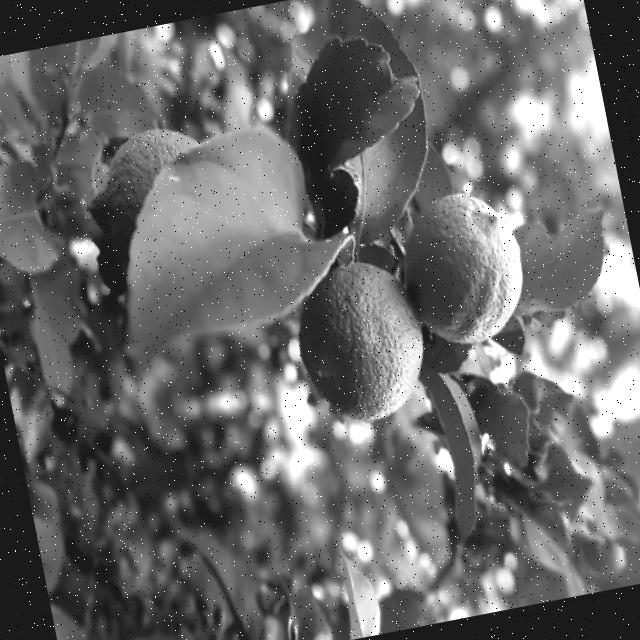Unripe: (286, 250, 432, 432), (388, 182, 535, 355)
